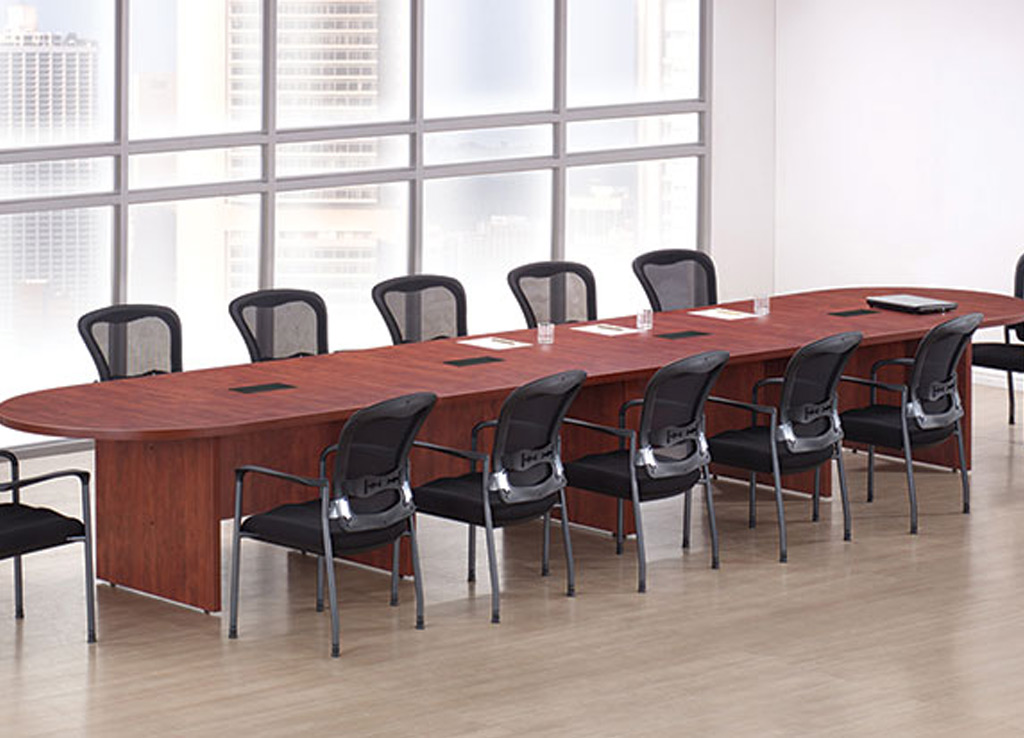conference_table: (1, 288, 1024, 618)
